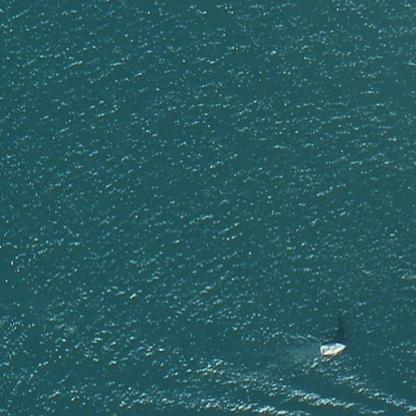ship: (318, 347, 347, 350)
